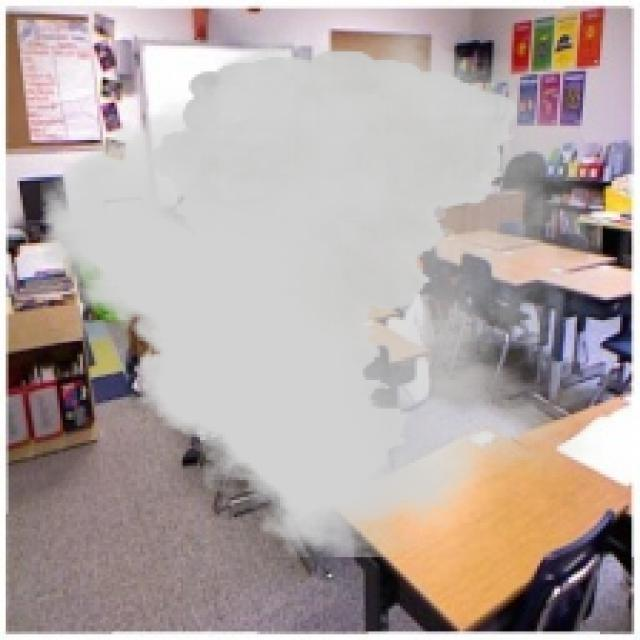Smoke: (40, 25, 603, 558)
